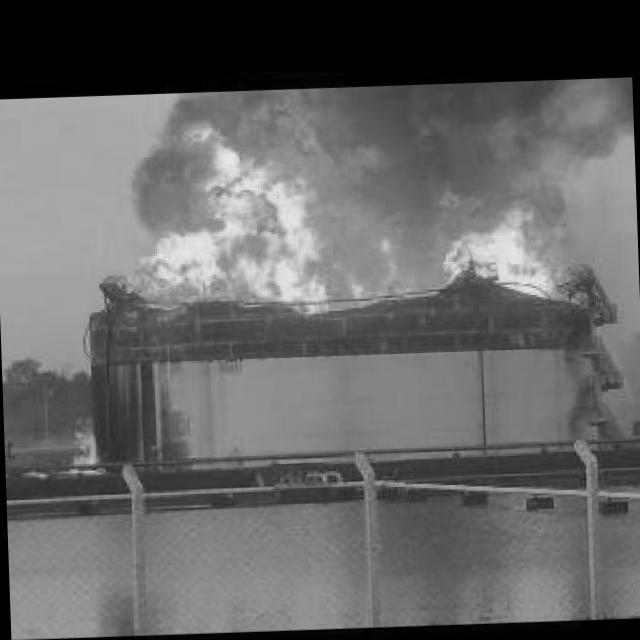fire: (141, 113, 582, 320), (372, 76, 636, 196), (68, 422, 104, 472)
